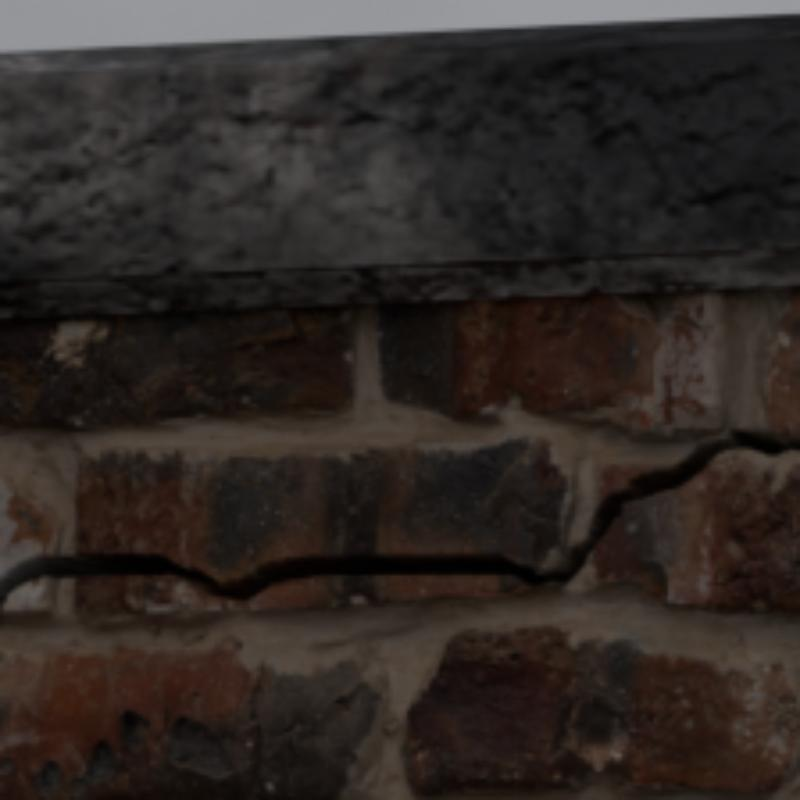pothole: (0, 429, 796, 604)
